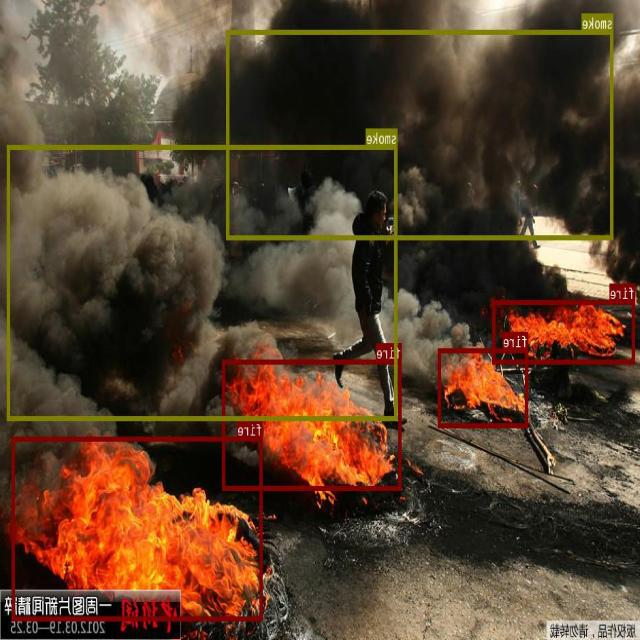fire: (12, 436, 264, 620), (223, 359, 402, 489), (493, 300, 636, 364), (439, 348, 529, 427)
smoke: (7, 144, 398, 420), (227, 29, 614, 239)
